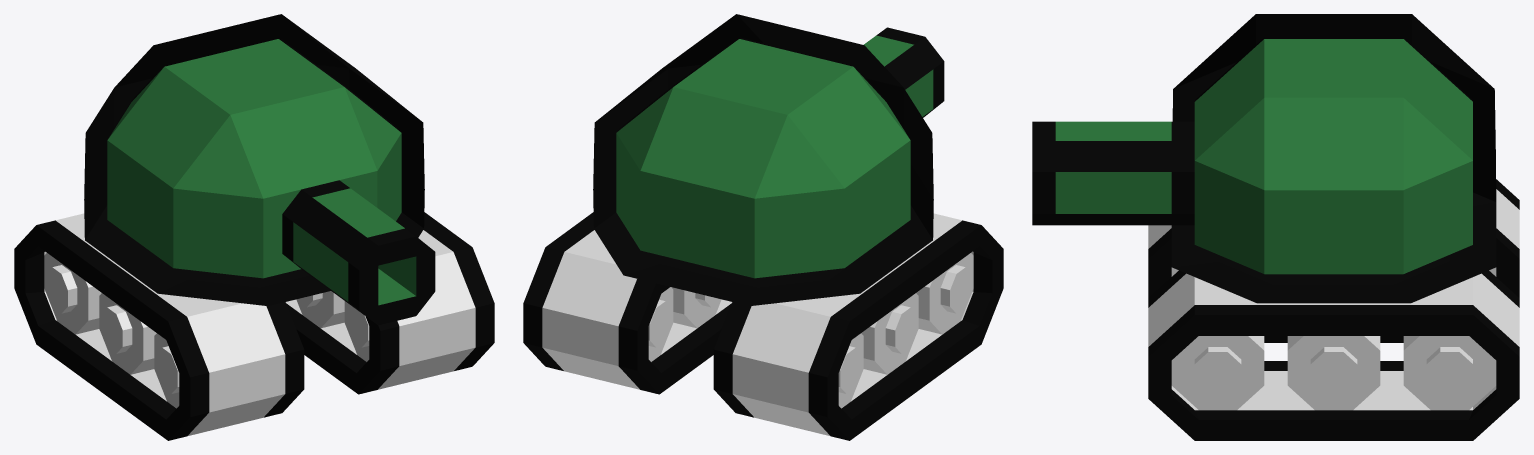
The model's file is PlayerTank.fbx.
The picture shows the model from 3 angles, left to right: view 1: azimuth 30°, elevation 25°; view 2: azimuth 150°, elevation 25°; view 3: azimuth 270°, elevation 25°; orthographic projection. The views are drawn at different scales.
Parts seen in each view (by area): view 1: TankHead_Player.002, Track.R, TankHead_Player.003, Track.L, TankGun_Player.004, Wheel3.R, Wheel2.R, Wheel2.L, Wheel1.R.002, Wheel1.L; view 2: TankHead_Player.002, Track.R, TankHead_Player.003, Track.L, TankGun_Player.004, Wheel1.R.002, Wheel2.R, Wheel2.L, Wheel3.R, Wheel3.L; view 3: TankHead_Player.002, Track.L, TankHead_Player.003, TankGun_Player.004, Wheel2.L, Wheel1.L, Wheel3.L, Track.R.
Part boxes in pixels (x1,y1,x2,y2): TankHead_Player.002: [107, 39, 401, 278]; Track.R: [14, 213, 304, 440]; TankHead_Player.003: [84, 14, 424, 306]; Track.L: [285, 212, 494, 394]; TankGun_Player.004: [282, 180, 435, 325]; Wheel3.R: [44, 253, 101, 334]; Wheel2.R: [99, 293, 156, 374]; Wheel2.L: [296, 291, 344, 328]; Wheel1.R.002: [154, 333, 179, 408]; Wheel1.L: [344, 301, 369, 361]; TankHead_Player.002: [616, 39, 910, 278]; Track.R: [713, 213, 1003, 440]; TankHead_Player.003: [593, 14, 933, 306]; Track.L: [523, 212, 732, 394]; TankGun_Player.004: [863, 27, 944, 117]; Wheel1.R.002: [916, 253, 973, 334]; Wheel2.R: [861, 293, 918, 374]; Wheel2.L: [671, 287, 721, 328]; Wheel3.R: [838, 333, 863, 408]; Wheel3.L: [648, 287, 673, 361]; TankHead_Player.002: [1194, 39, 1472, 274]; Track.L: [1148, 270, 1519, 440]; TankHead_Player.003: [1171, 14, 1496, 303]; TankGun_Player.004: [1032, 121, 1194, 225]; Wheel2.L: [1287, 336, 1380, 410]; Wheel1.L: [1171, 336, 1264, 410]; Wheel3.L: [1403, 336, 1496, 410]; Track.R: [1148, 179, 1519, 342].
Bounding box in the file's own units: 1 × 0.9384 × 1.31.
